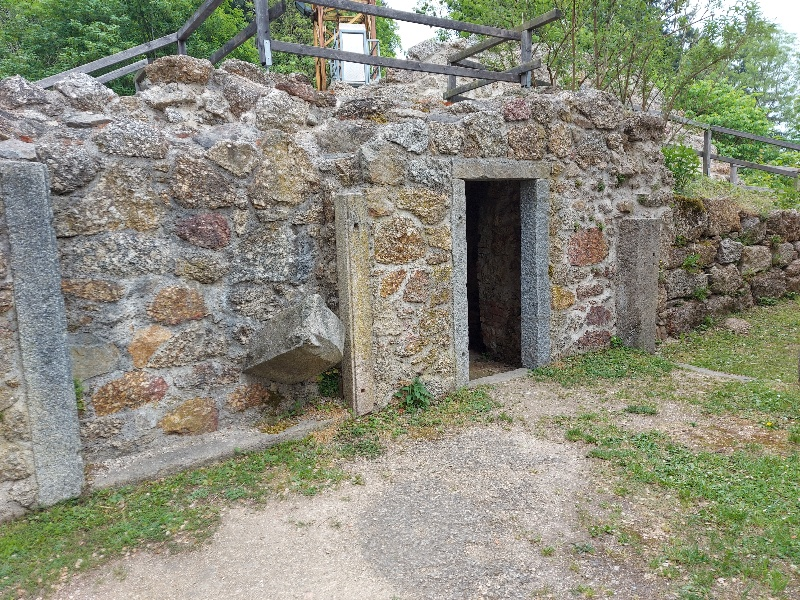door2: (437, 145, 565, 389)
